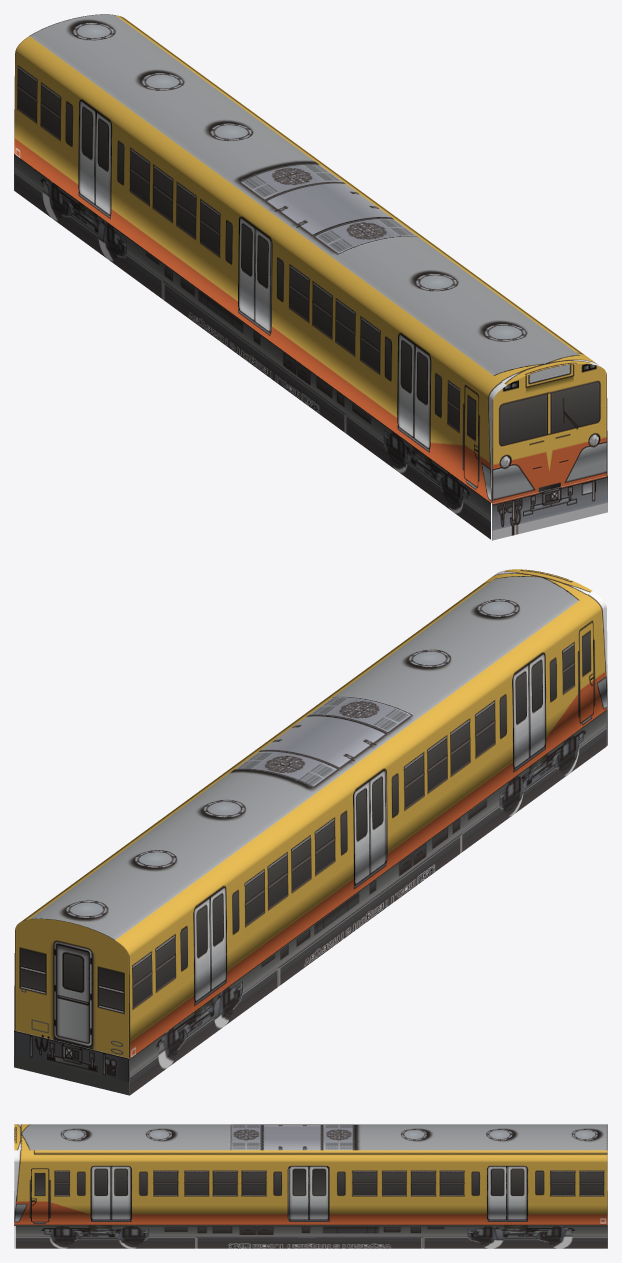
Rendered from car1.glb.
3 renders of one model, top to bottom at view 1: azimuth 30°, elevation 25°; view 2: azimuth 150°, elevation 25°; view 3: azimuth 270°, elevation 25°, orthographic. The views are drawn at different scales.
Parts seen in each view (by area): view 1: sanki-801-car1; view 2: sanki-801-car1; view 3: sanki-801-car1.
Boxes of the visible parts, x1,y1,x2,y2 form: sanki-801-car1: [14, 14, 607, 540]; sanki-801-car1: [14, 569, 607, 1095]; sanki-801-car1: [14, 1124, 607, 1248].
Size of the model in its own units: 2.8 by 3.65 by 20.03.
Materials: 9 (8 with a texture image).
